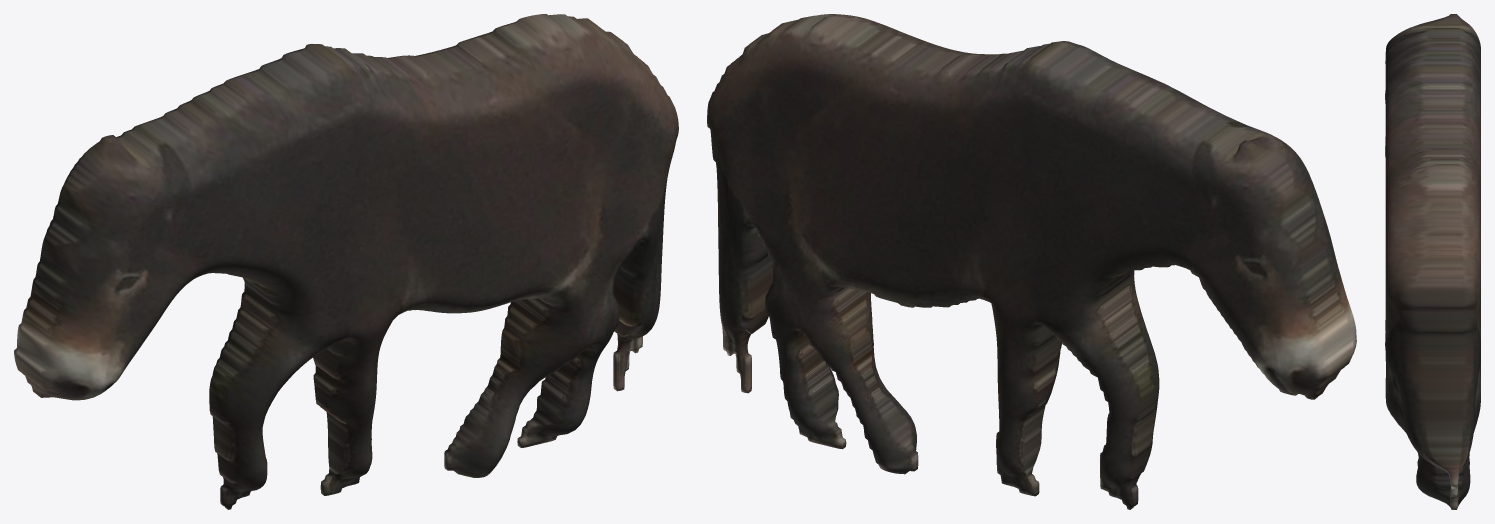
Rendered from horse_121483510.glb.
The picture shows the model from 3 angles, left to right: view 1: azimuth 30°, elevation 25°; view 2: azimuth 150°, elevation 25°; view 3: azimuth 270°, elevation 25°; orthographic projection. The views are drawn at different scales.
Visible parts, largest first — view 1: horse_121483510; view 2: horse_121483510; view 3: horse_121483510.
Boxes of the visible parts, <box> form: horse_121483510: <box>14,14,678,509</box>; horse_121483510: <box>707,14,1356,509</box>; horse_121483510: <box>1385,14,1480,509</box>.
Size of the model in its own units: 1.97 by 1.37 by 0.3295.
1 material, 1 textured.
